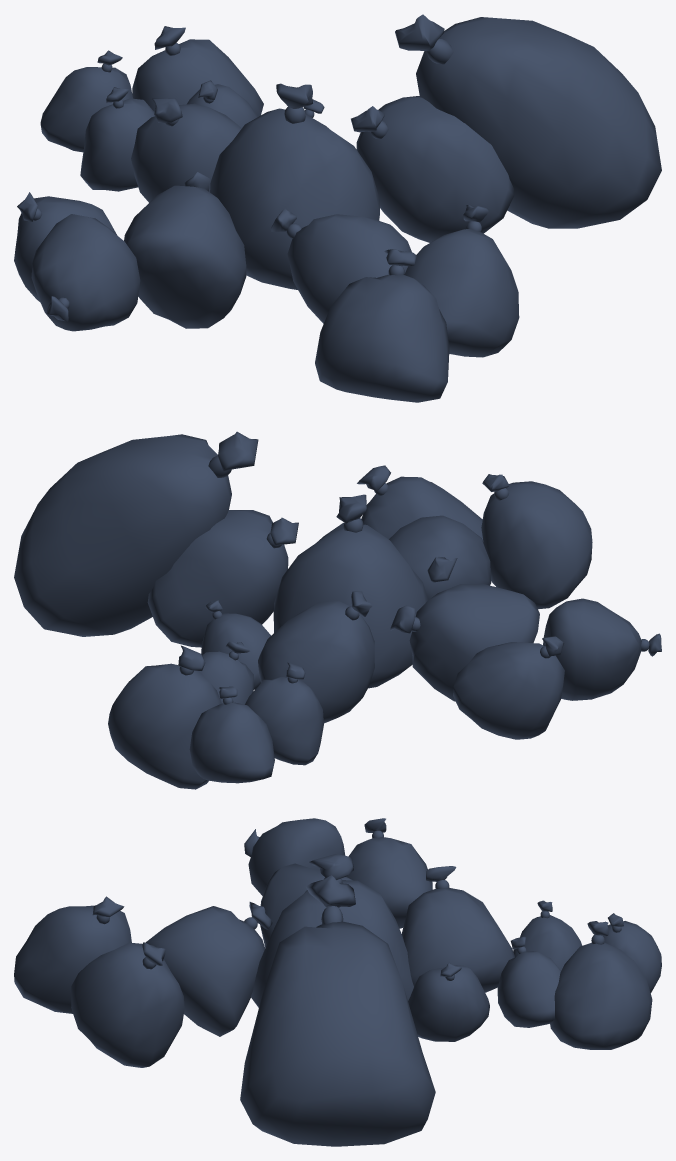
File: SM_Trashbags.fbx
3 views of the same model, one above another, from view 1: azimuth 30°, elevation 25°; view 2: azimuth 150°, elevation 25°; view 3: azimuth 270°, elevation 25° (orthographic). The views are drawn at different scales.
Parts seen in each view (by area): view 1: pCube133; view 2: pCube133; view 3: pCube133.
Boxes of the visible parts, x1=… form: pCube133: x1=14, y1=14, x2=661, y2=402; pCube133: x1=14, y1=431, x2=661, y2=789; pCube133: x1=14, y1=818, x2=661, y2=1146.
Bounding box in the file's own units: 285 × 106 × 287.
